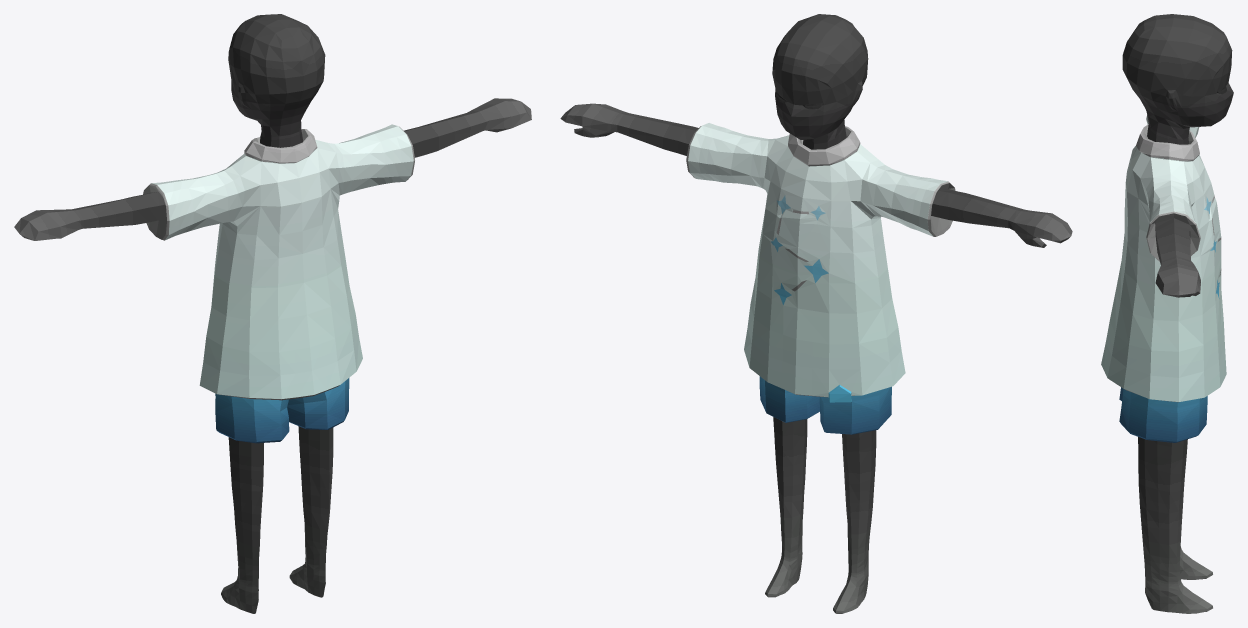
The model's file is CharSkyKid_Body_BirthdayShirt_05.glb.
3 views of the same model, side by side, from view 1: azimuth 30°, elevation 25°; view 2: azimuth 150°, elevation 25°; view 3: azimuth 270°, elevation 25° (orthographic).
Visible parts, largest first — view 1: CharSkyKid_Body_BirthdayShirt_05; view 2: CharSkyKid_Body_BirthdayShirt_05; view 3: CharSkyKid_Body_BirthdayShirt_05.
Part boxes in pixels (x1=…): CharSkyKid_Body_BirthdayShirt_05: x1=14, y1=14, x2=531, y2=613; CharSkyKid_Body_BirthdayShirt_05: x1=560, y1=14, x2=1072, y2=613; CharSkyKid_Body_BirthdayShirt_05: x1=1101, y1=14, x2=1233, y2=613.
Bounding box in the file's own units: 13.83 × 14.93 × 3.13.
1 material, 1 textured.
